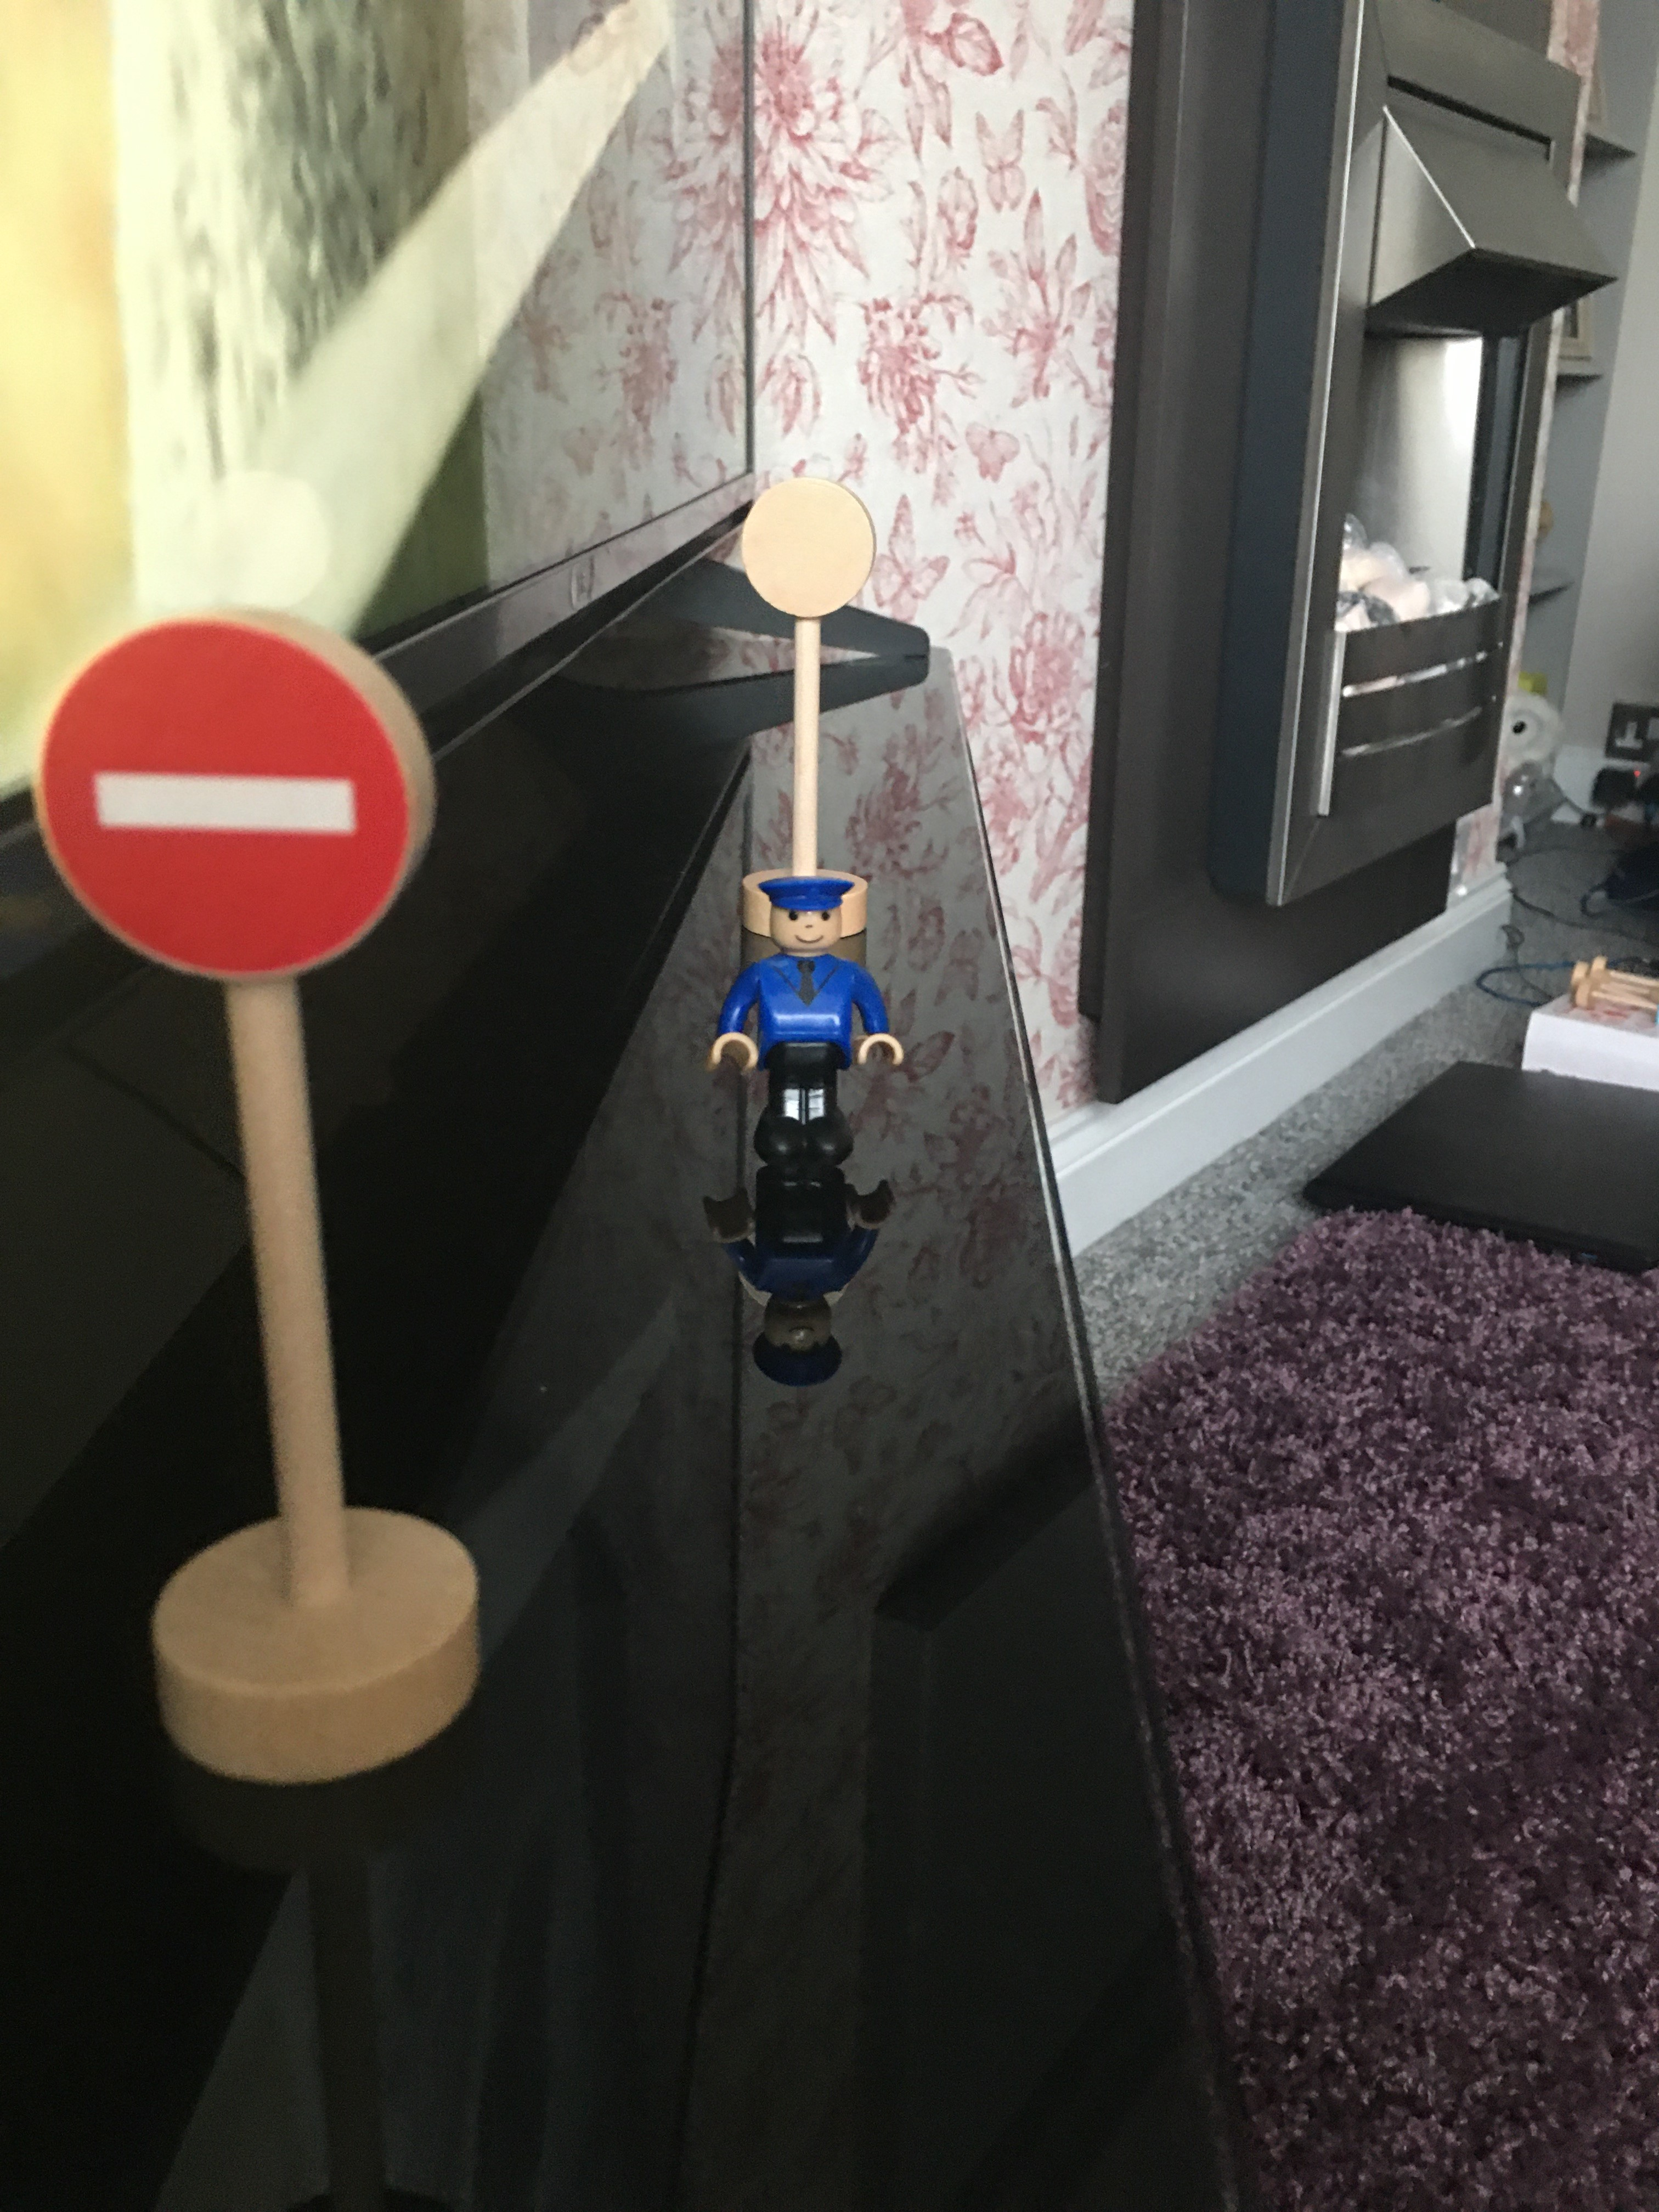Traffic_Sign_No_Entry: (31, 618, 418, 973)
person: (699, 851, 924, 1169)
